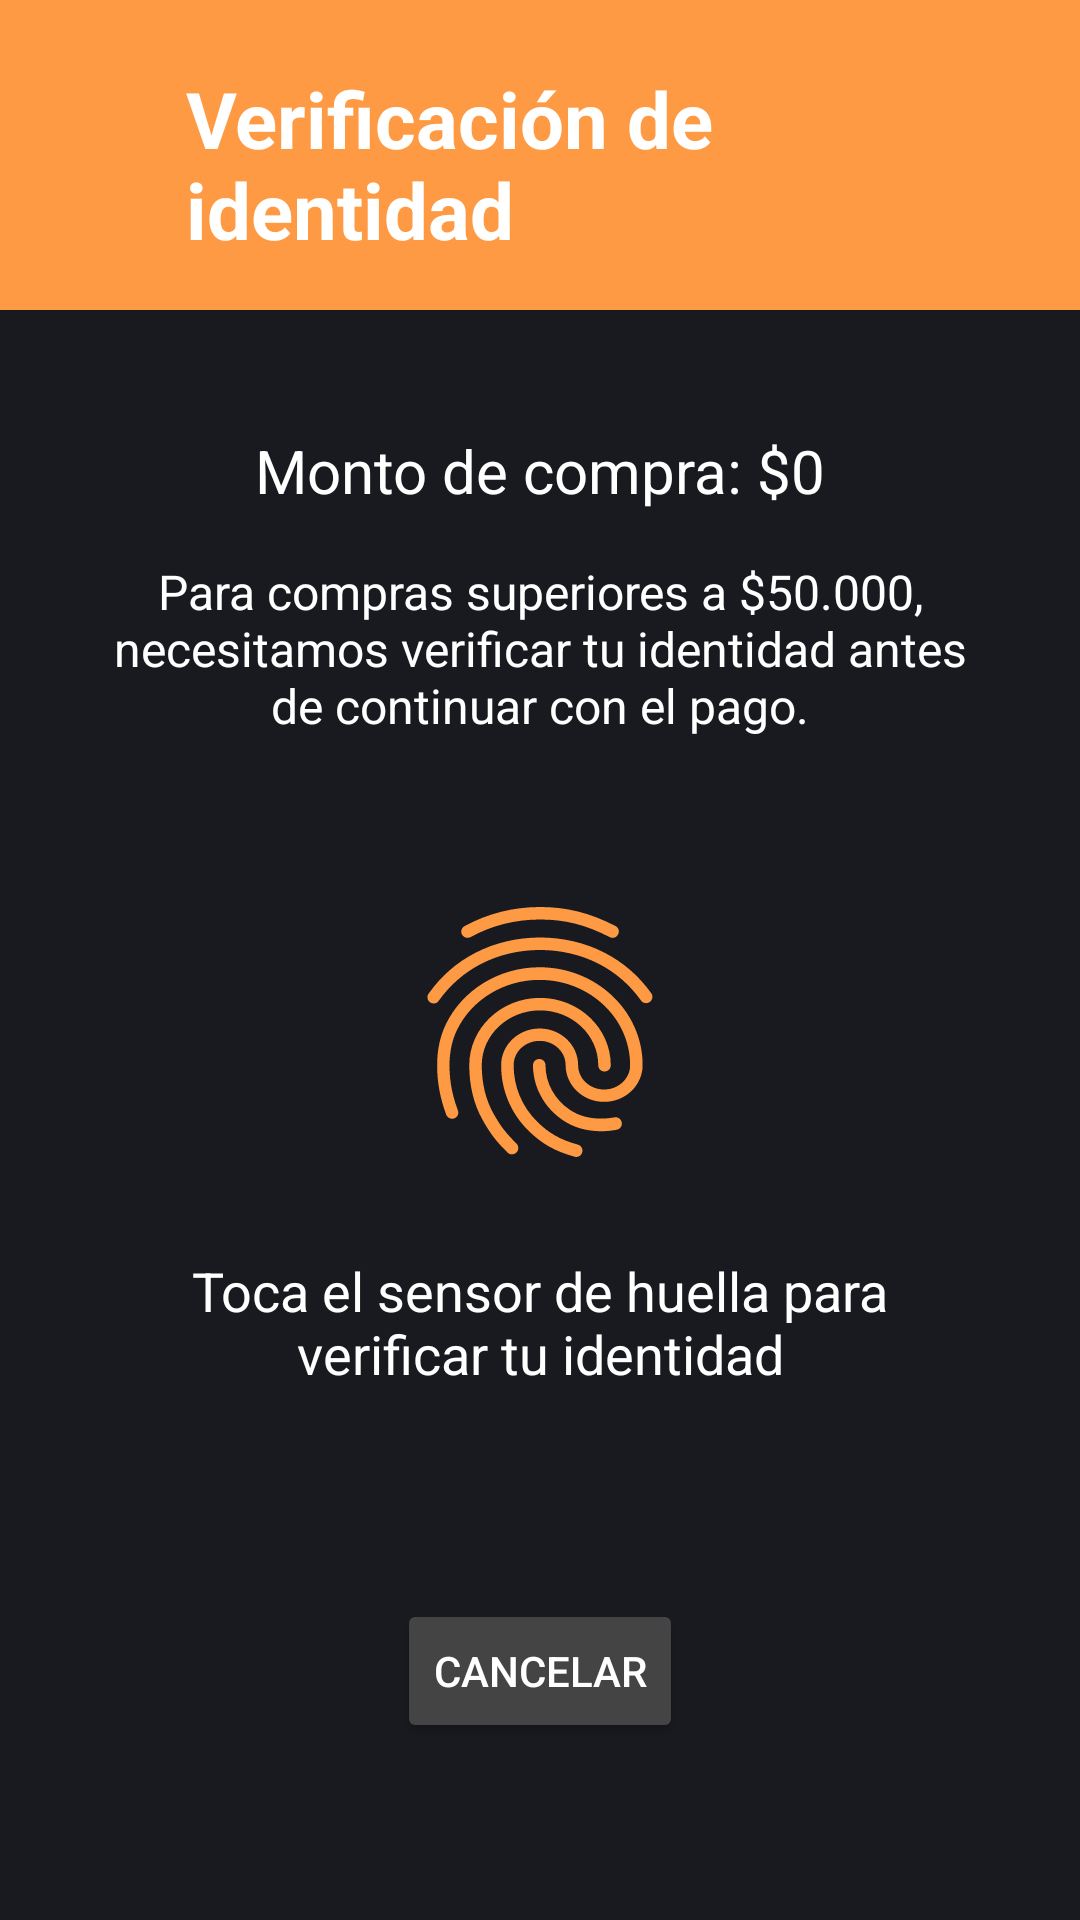

Point at icon controls on the screen. Image size 1080 x 1920, points as (x=x, y=y).
fingerprint: (x=540, y=1032)
